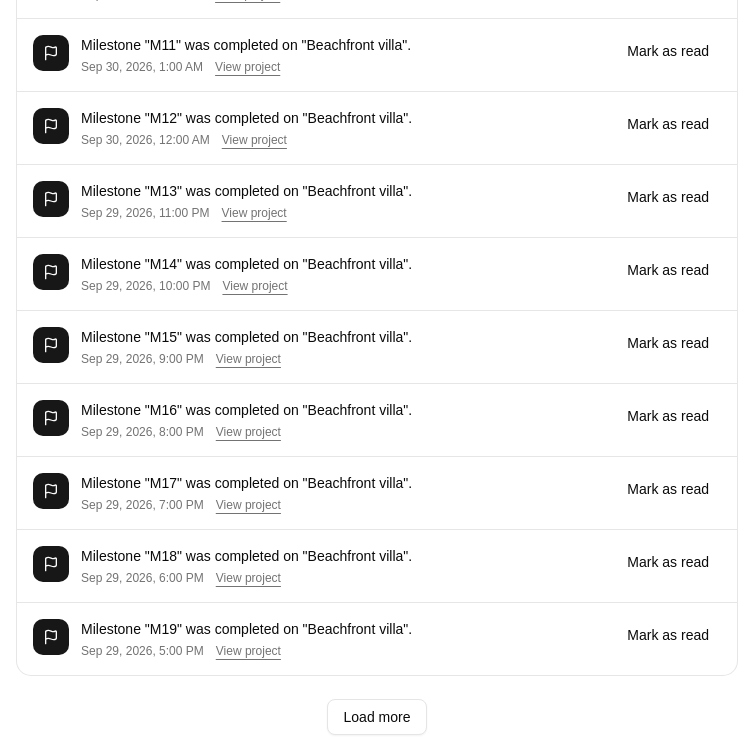
NotificationsPage › loading more › keeps going to the end, then stops offering more
The image size is (755, 753).
(page scrolled)
Click the button "Load more". click: {"x": 377, "y": 717}
box: [326,699,427,735]
(page scrolled)
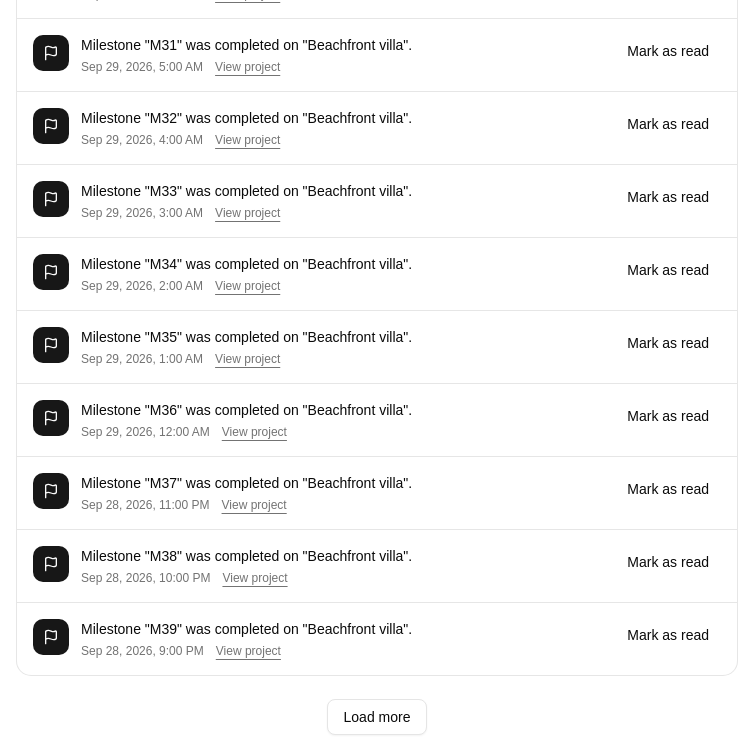
Click the button "Load more". click: {"x": 377, "y": 717}
box: [326,699,427,735]
(page scrolled)
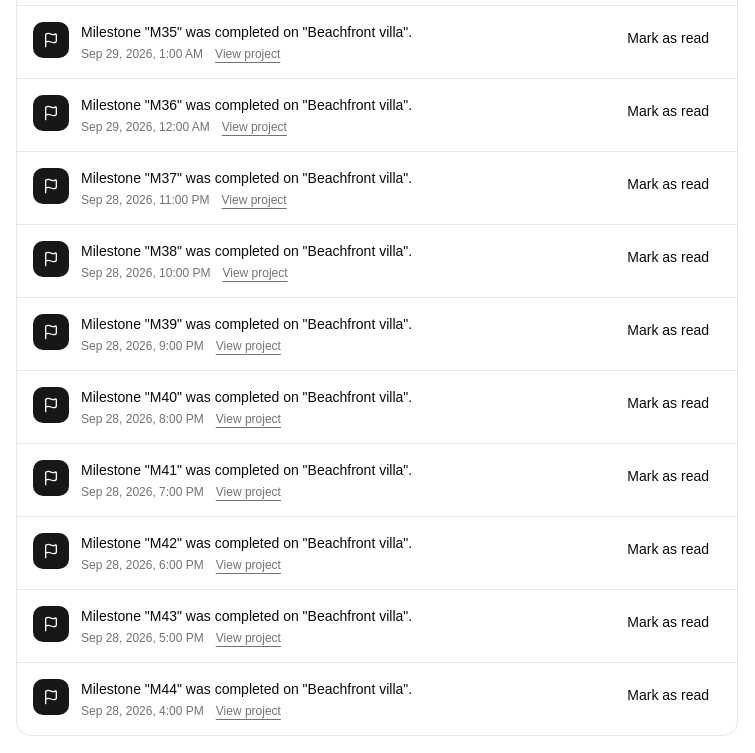
Result: the text "Milestone \"M44\" was completed on \"Beachfront villa\"." is shown at [81,679,412,699]
Result: the button "Load more" is gone
